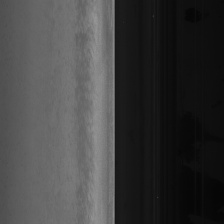silk_spot: (75, 85, 100, 154)
